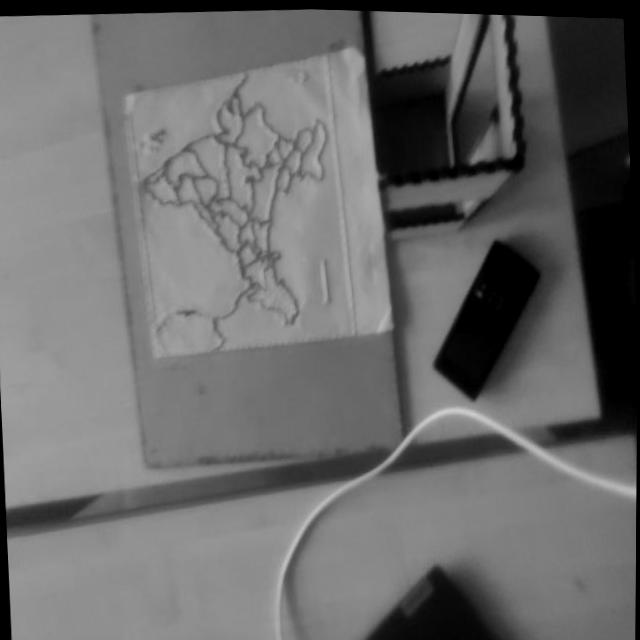map: (123, 55, 357, 358)
